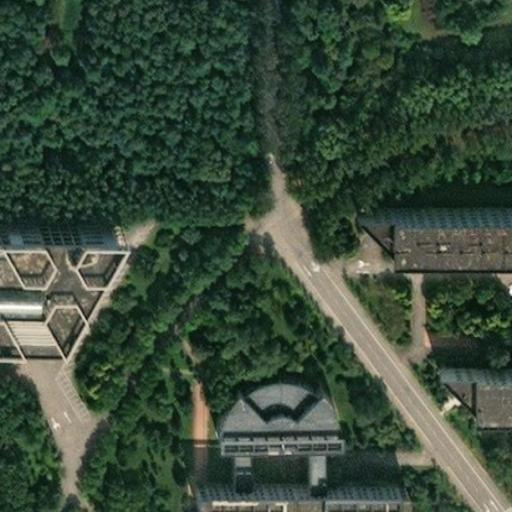building: (180, 471, 396, 510), (207, 366, 333, 431), (340, 193, 512, 237), (422, 351, 512, 394), (294, 431, 313, 471), (222, 431, 240, 471)
